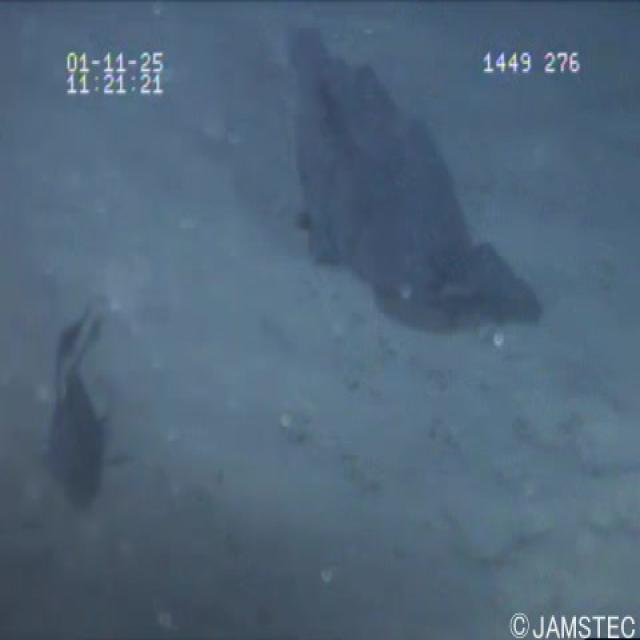plastic: (269, 29, 552, 362)
